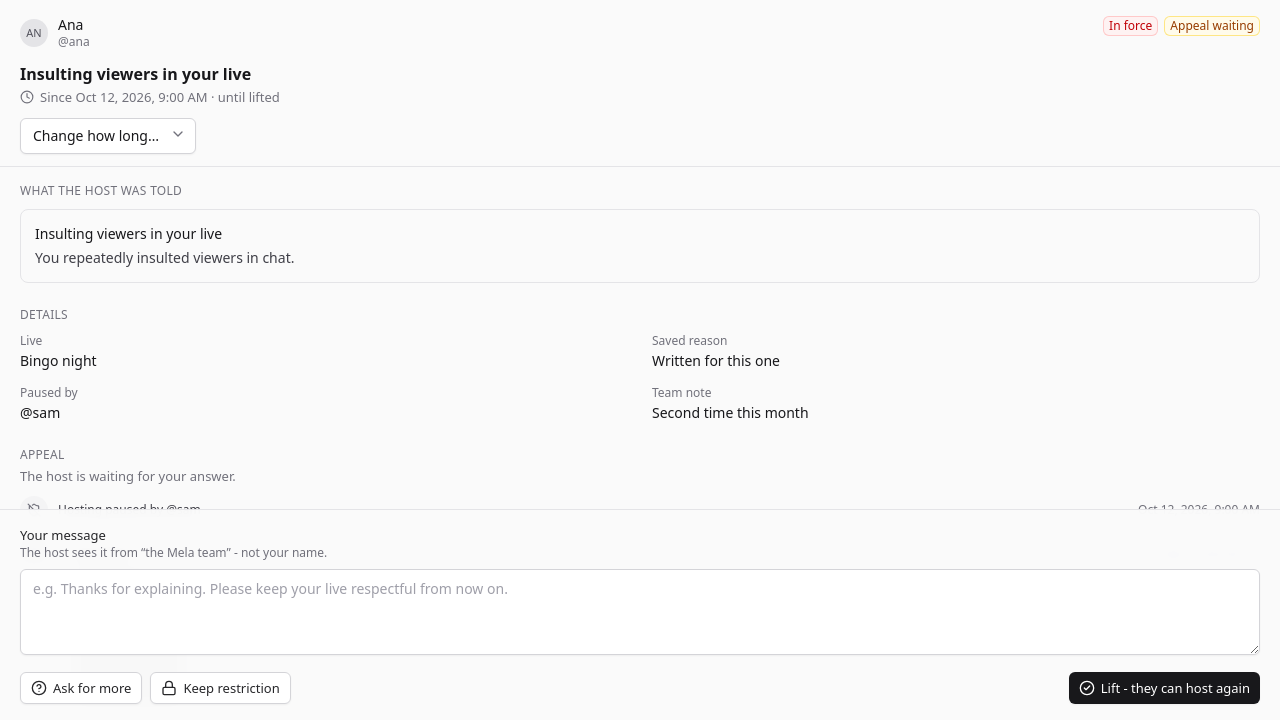
a hosting restriction › needs words before keeping it or asking for more
Click the button "Ask for more" at (81, 688), box [20,672,142,704]
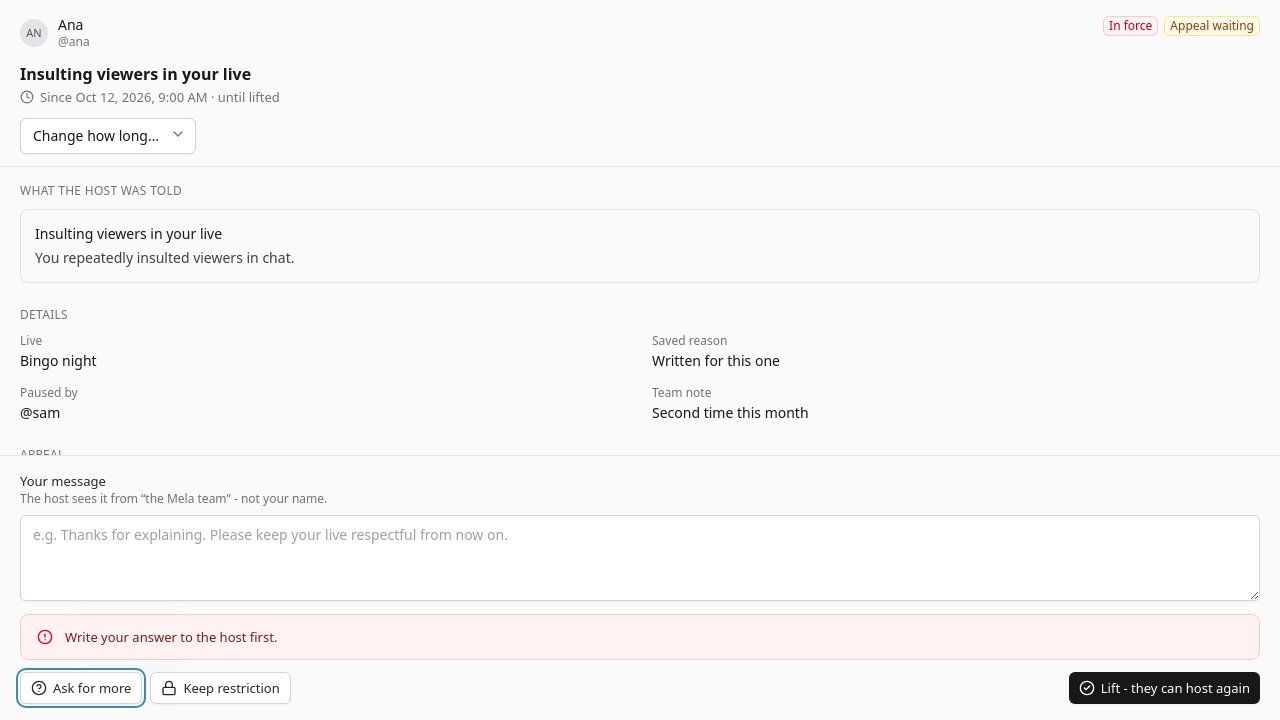
Expected: the text "Write your answer to the host first." is shown, [65,628,277,646]
